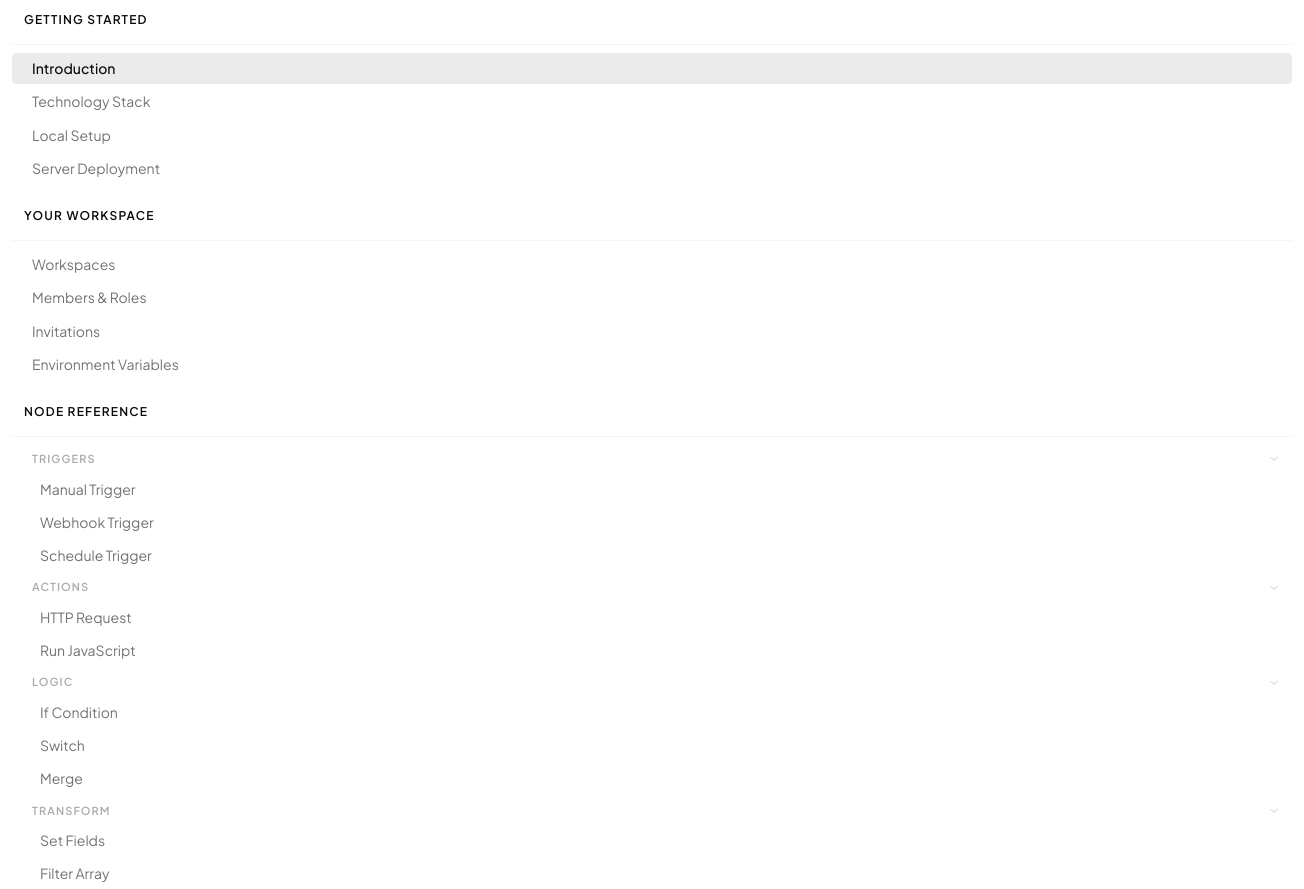
Test: DocsSidebar › collapses a subgroup when its heading button is clicked
The width and height of the screenshot is (1304, 889).
Note: "Triggers" subgroup heading — the singular leaf items contain "Trigger", not "Triggers"
Step 1. Click the button "Triggers" → [64, 458], box [12,445,1292,474]
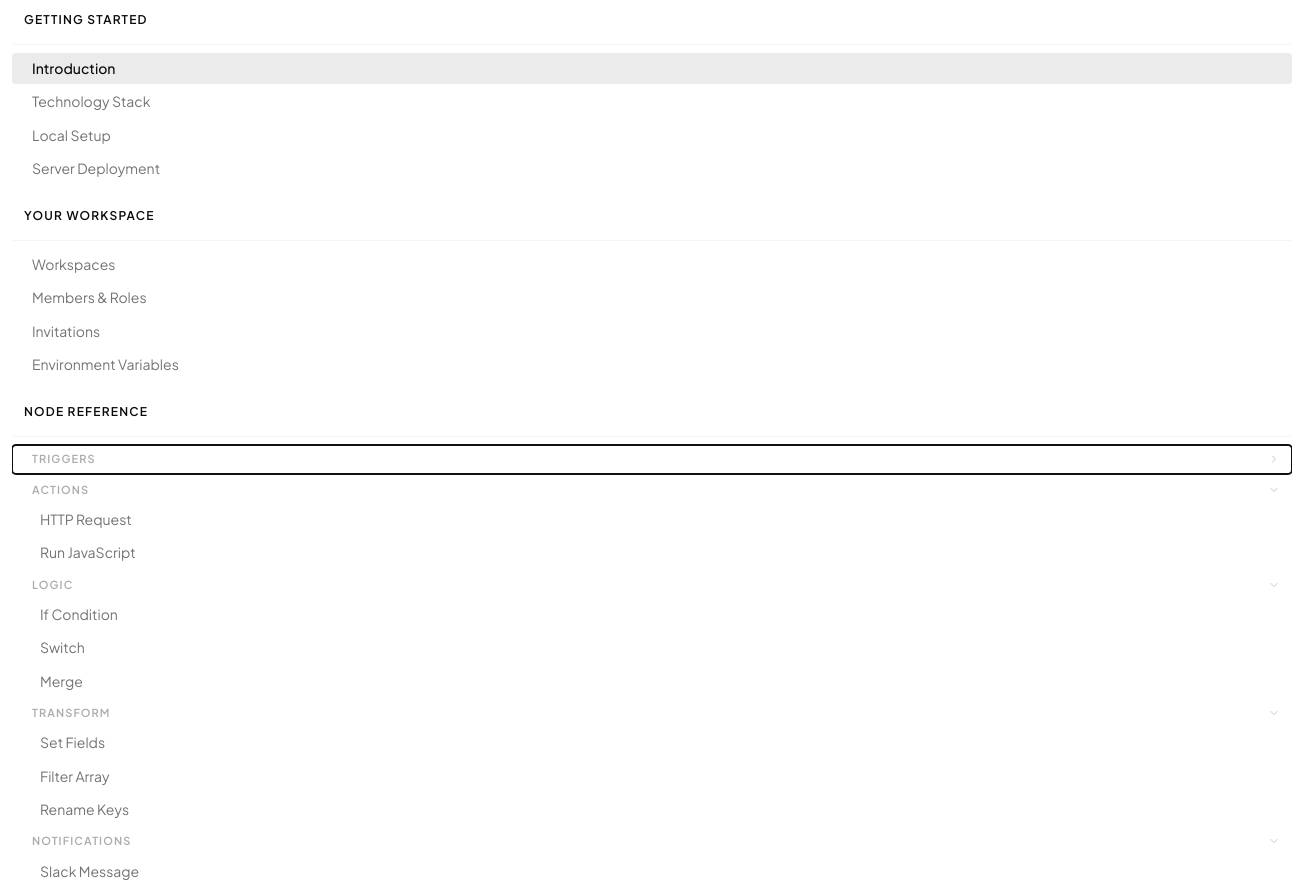
Check: the button "Manual Trigger" is gone
